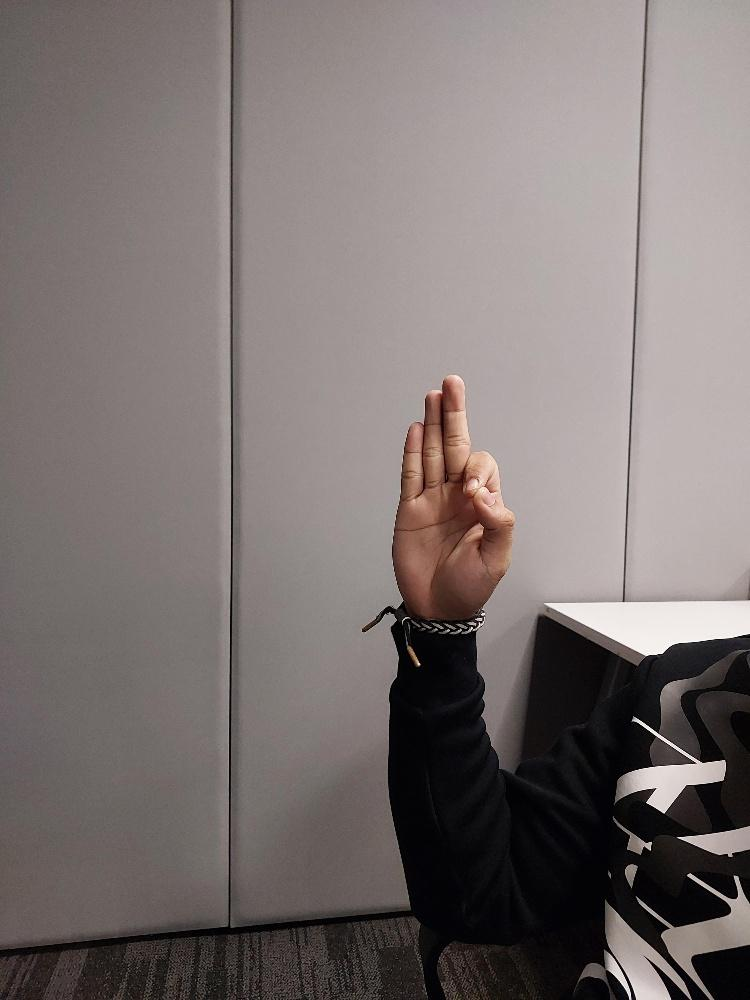f: (389, 370, 515, 622)
